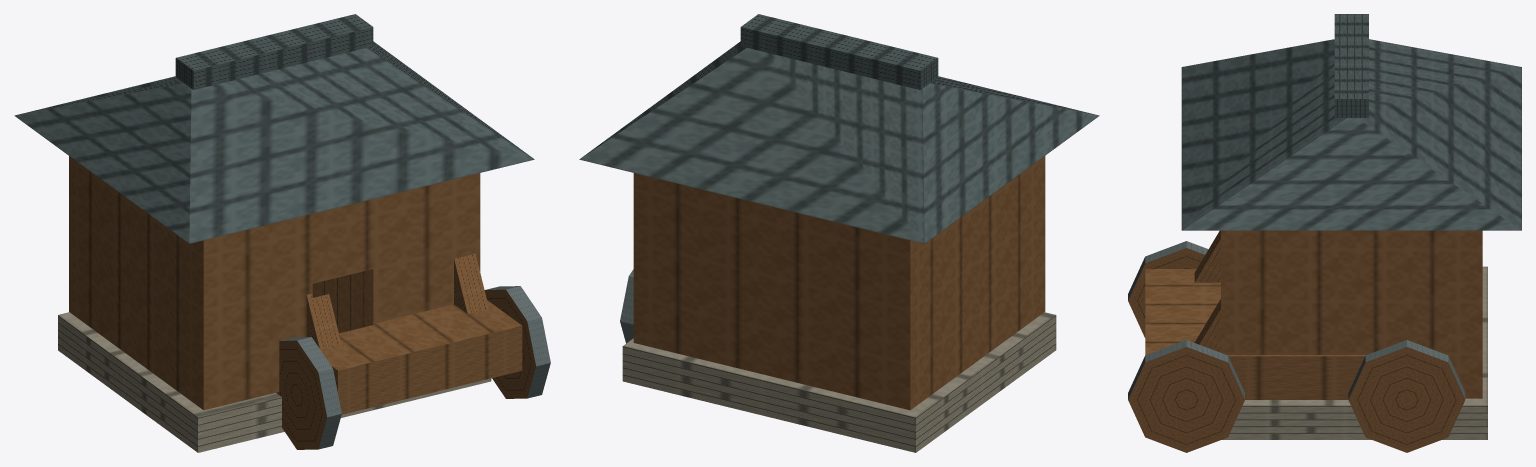
File: domestic-WORKSHOP-1-lod2.glb
3 renders of one model, left to right at view 1: azimuth 30°, elevation 25°; view 2: azimuth 150°, elevation 25°; view 3: azimuth 270°, elevation 25°, orthographic. The views are drawn at different scales.
Bounding box in the file's own units: 0.5625 × 0.513 × 0.572.
1 material, 1 textured.
